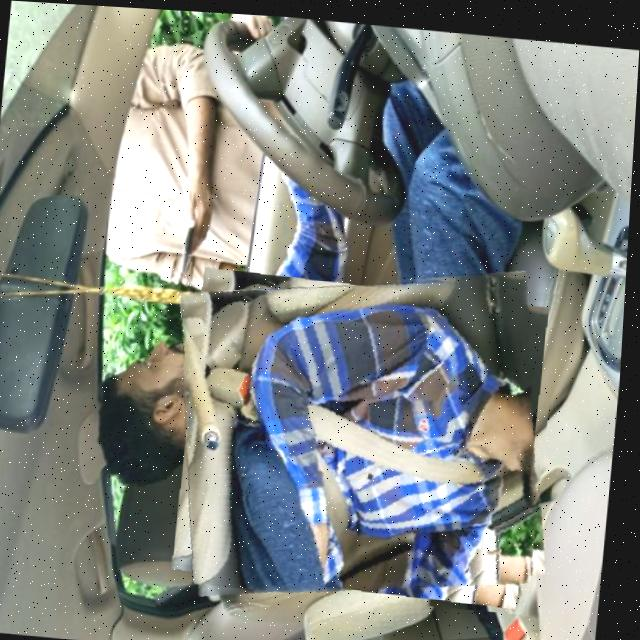seatbelt: (169, 247, 565, 608)
